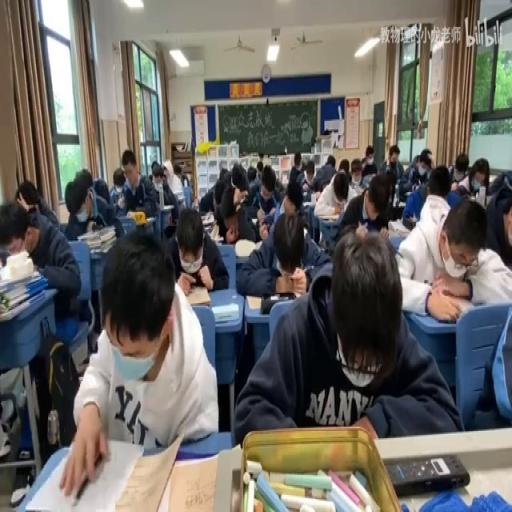calculator: (163, 451, 225, 512), (0, 289, 45, 320), (0, 264, 40, 292), (212, 300, 238, 322), (185, 286, 211, 307), (234, 236, 257, 256), (388, 218, 410, 238), (90, 240, 114, 256), (244, 294, 262, 310), (317, 209, 341, 221), (476, 183, 485, 205), (200, 212, 214, 225), (173, 188, 185, 202), (350, 183, 364, 195), (210, 224, 219, 240), (158, 203, 174, 212), (311, 189, 322, 202), (302, 196, 316, 206), (302, 180, 310, 194), (250, 216, 258, 225), (144, 216, 154, 223), (405, 190, 413, 198)
paper: (234, 228, 456, 442), (60, 226, 214, 499), (1, 189, 80, 455), (396, 190, 510, 313), (468, 294, 510, 428), (168, 205, 228, 290), (63, 169, 119, 245), (334, 170, 394, 238), (211, 176, 258, 245), (118, 148, 158, 225), (269, 174, 307, 240), (15, 180, 60, 230), (398, 148, 433, 200), (454, 158, 490, 202), (378, 142, 403, 195), (310, 159, 336, 192), (426, 165, 451, 198), (486, 168, 512, 196), (360, 144, 379, 180), (230, 161, 249, 193), (287, 150, 303, 180), (332, 175, 347, 202), (112, 166, 125, 190), (350, 160, 362, 184), (337, 158, 349, 179), (180, 170, 190, 186), (246, 165, 255, 182), (218, 168, 228, 183), (173, 164, 182, 180), (152, 174, 162, 188), (306, 168, 314, 182), (256, 160, 262, 178), (326, 155, 334, 168), (261, 154, 270, 165), (150, 158, 157, 171), (359, 156, 366, 168), (423, 156, 432, 165)
person: (386, 452, 470, 494), (259, 293, 298, 314)
